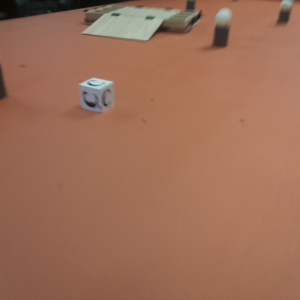blockC: (82, 78, 112, 114)
obstacle: (214, 11, 229, 48), (275, 1, 292, 25)
side: (176, 12, 202, 31)
slope: (89, 15, 161, 41)
